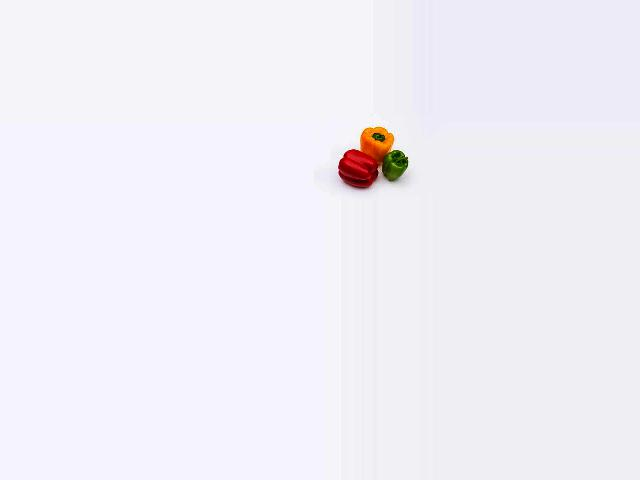bell_pepper: (381, 147, 415, 181)
